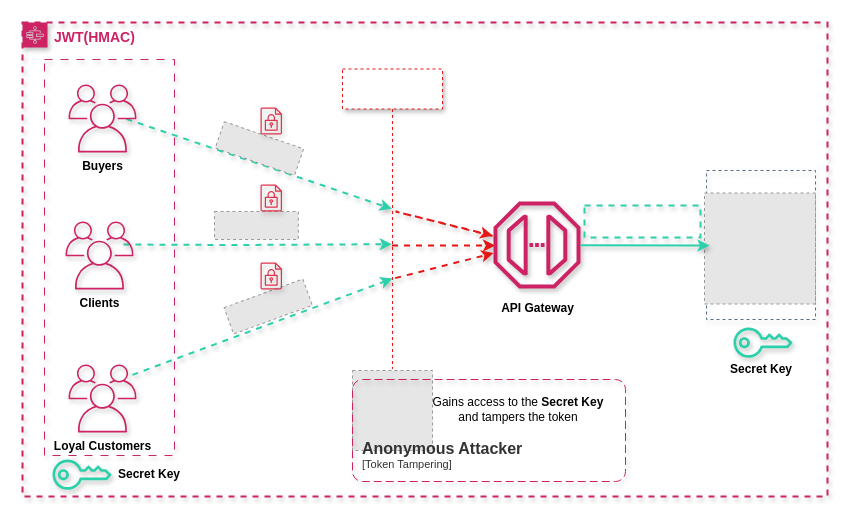
The diagram is 851 pixels wide and 521 high, and some of its shapes have lost their labels. Grey dashed boxes stand in for pictures. Each missing label, with the centre of its shape:
JWT Tampered Token Accepted: (643,222)
JWT Token Tampered: (393,220)
